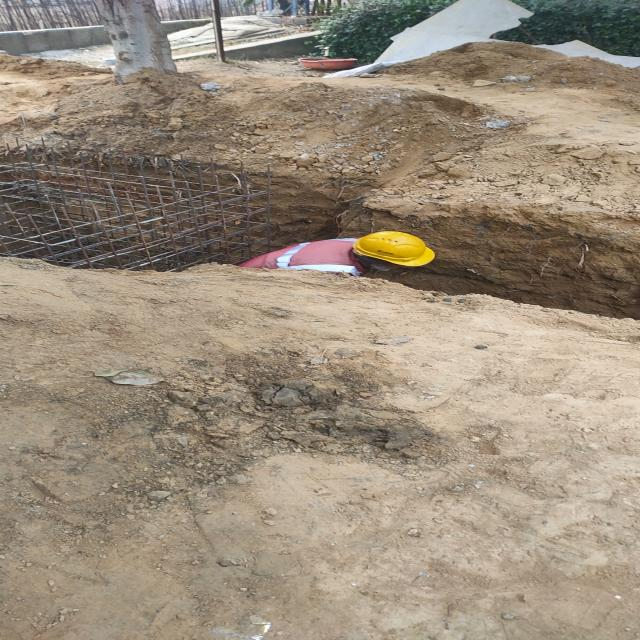safe: (240, 229, 438, 274)
